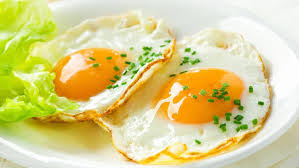Telur ceplok: (107, 29, 273, 165), (34, 9, 175, 122)
